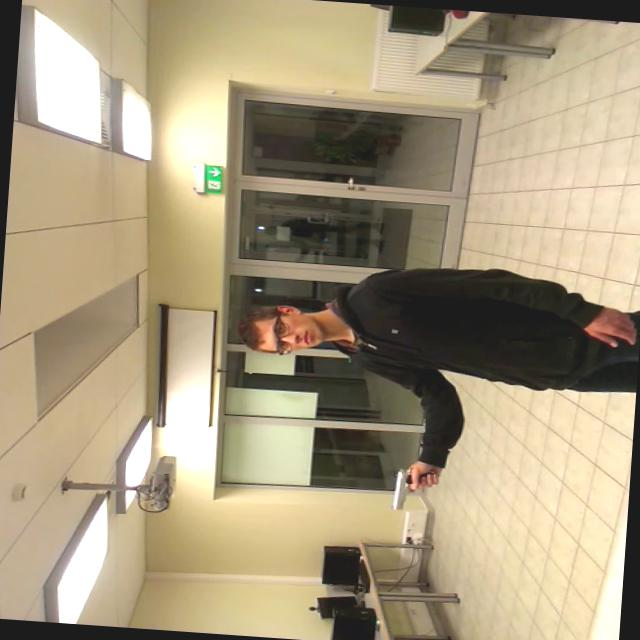handgun: (382, 457, 451, 512)
